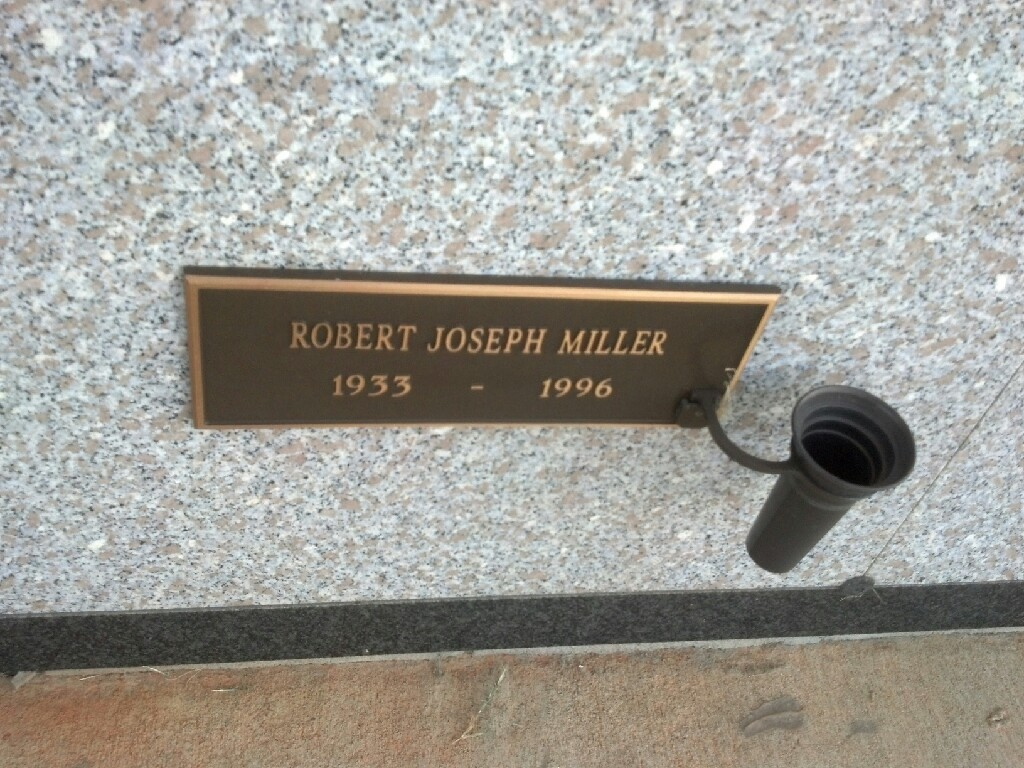plaque: (179, 246, 775, 458)
